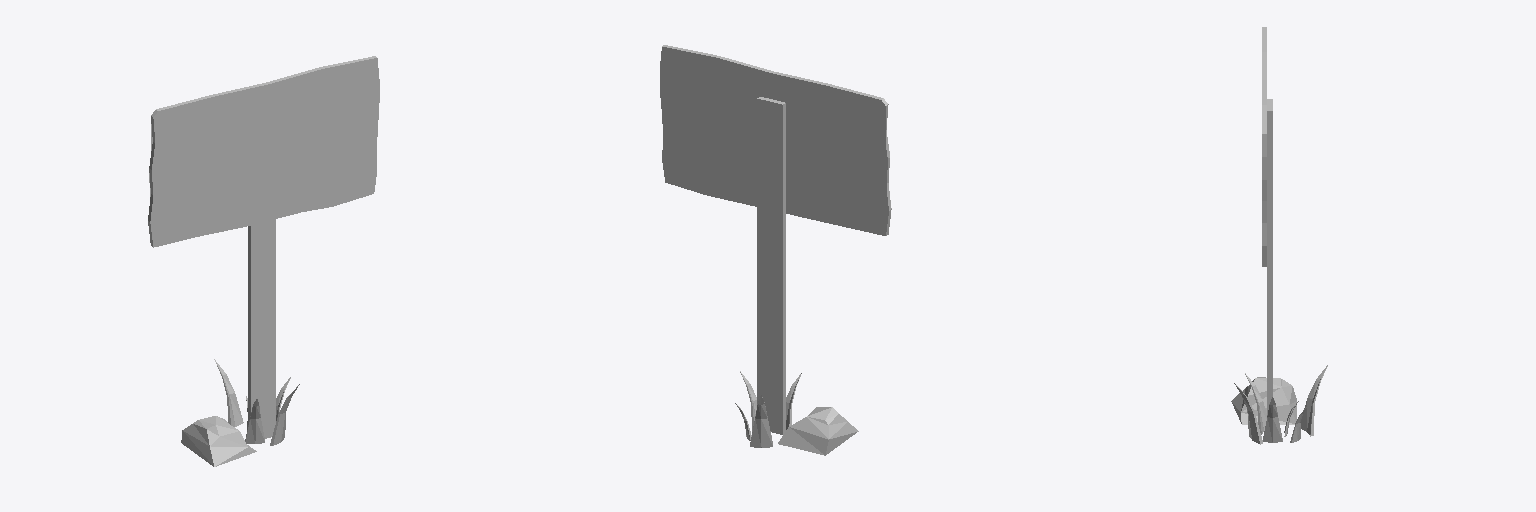
The model's file is Sign11.obj.
3 views of the same model, side by side, from view 1: azimuth 30°, elevation 25°; view 2: azimuth 150°, elevation 25°; view 3: azimuth 270°, elevation 25° (orthographic).
Parts seen in each view (by area): view 1: Sign11; view 2: Sign11; view 3: Sign11.
Part boxes in pixels (bbox=[...]): Sign11: bbox=[148, 56, 379, 466]; Sign11: bbox=[660, 45, 891, 455]; Sign11: bbox=[1231, 27, 1327, 444].
Bounding box in the file's own units: 1.44 × 2.15 × 0.5324.